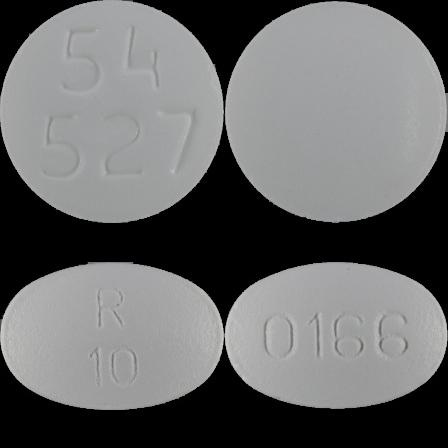61786-697: (0, 0, 224, 224)
